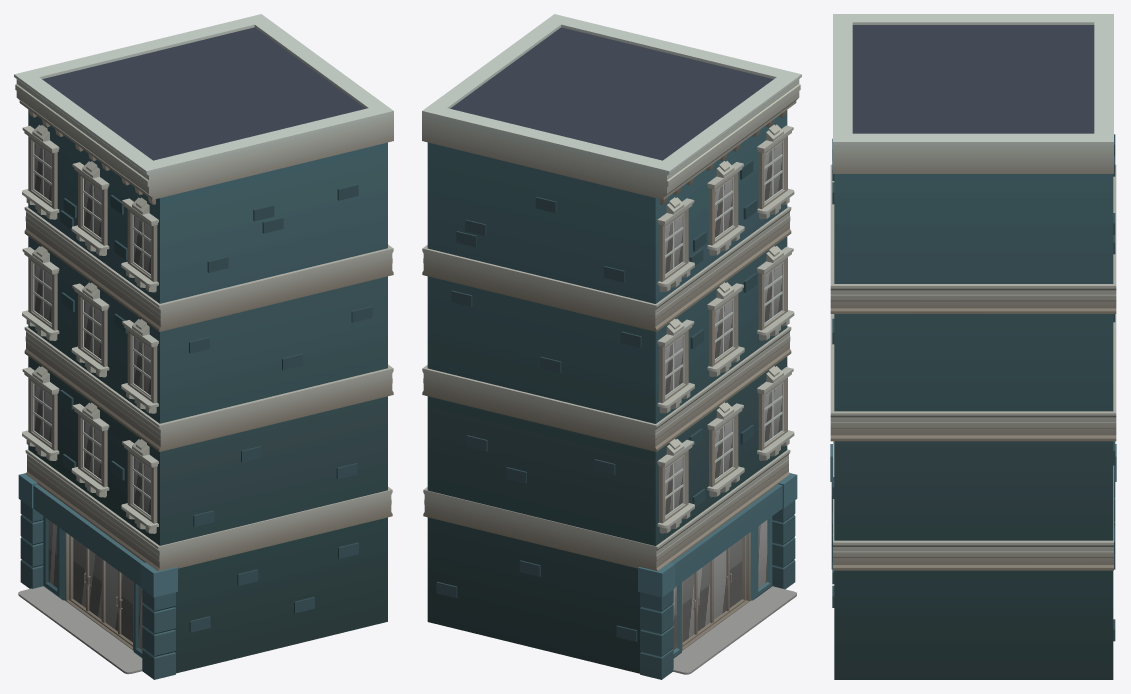
Rendered from Building_21_2_K.fbx.
3 renders of one model, left to right at view 1: azimuth 30°, elevation 25°; view 2: azimuth 150°, elevation 25°; view 3: azimuth 270°, elevation 25°, orthographic. The views are drawn at different scales.
Parts seen in each view (by area): view 1: Building_21_2_K; view 2: Building_21_2_K; view 3: Building_21_2_K.
Part boxes in pixels (left/top/right/bottom): Building_21_2_K: left=14, top=14, right=393, bottom=679; Building_21_2_K: left=422, top=14, right=801, bottom=679; Building_21_2_K: left=830, top=14, right=1116, bottom=679.
Bounding box in the file's own units: 779 × 1485 × 713.
